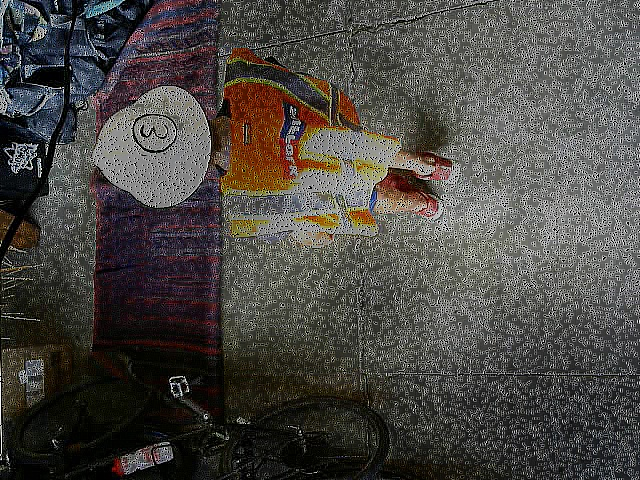three: (131, 113, 177, 154)
